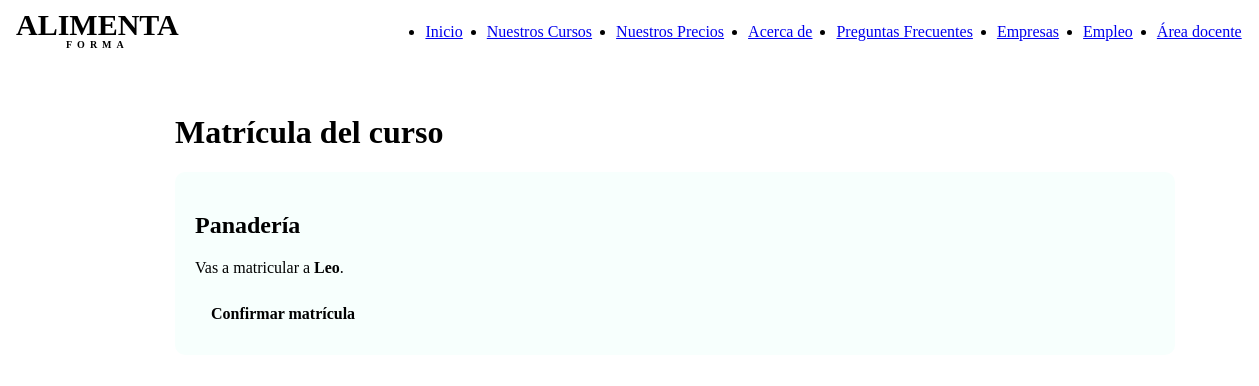
recorridos del alumno › explica un error HTTP al intentar confirmar la matrícula
Click the button "Confirmar matrícula". click: coordinates (283, 314)
box: [195,293,371,335]
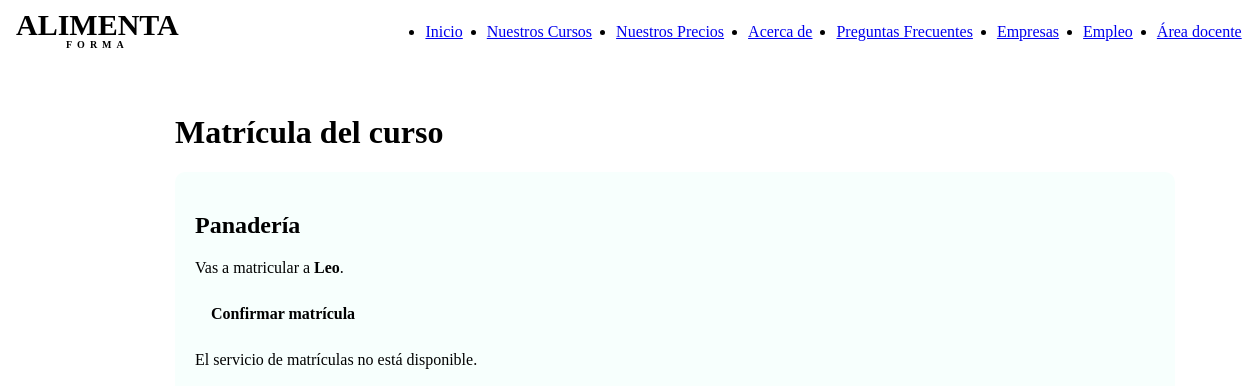
Result: the message shows "El servicio de matrículas no está disponible" at [195,351,477,368]
